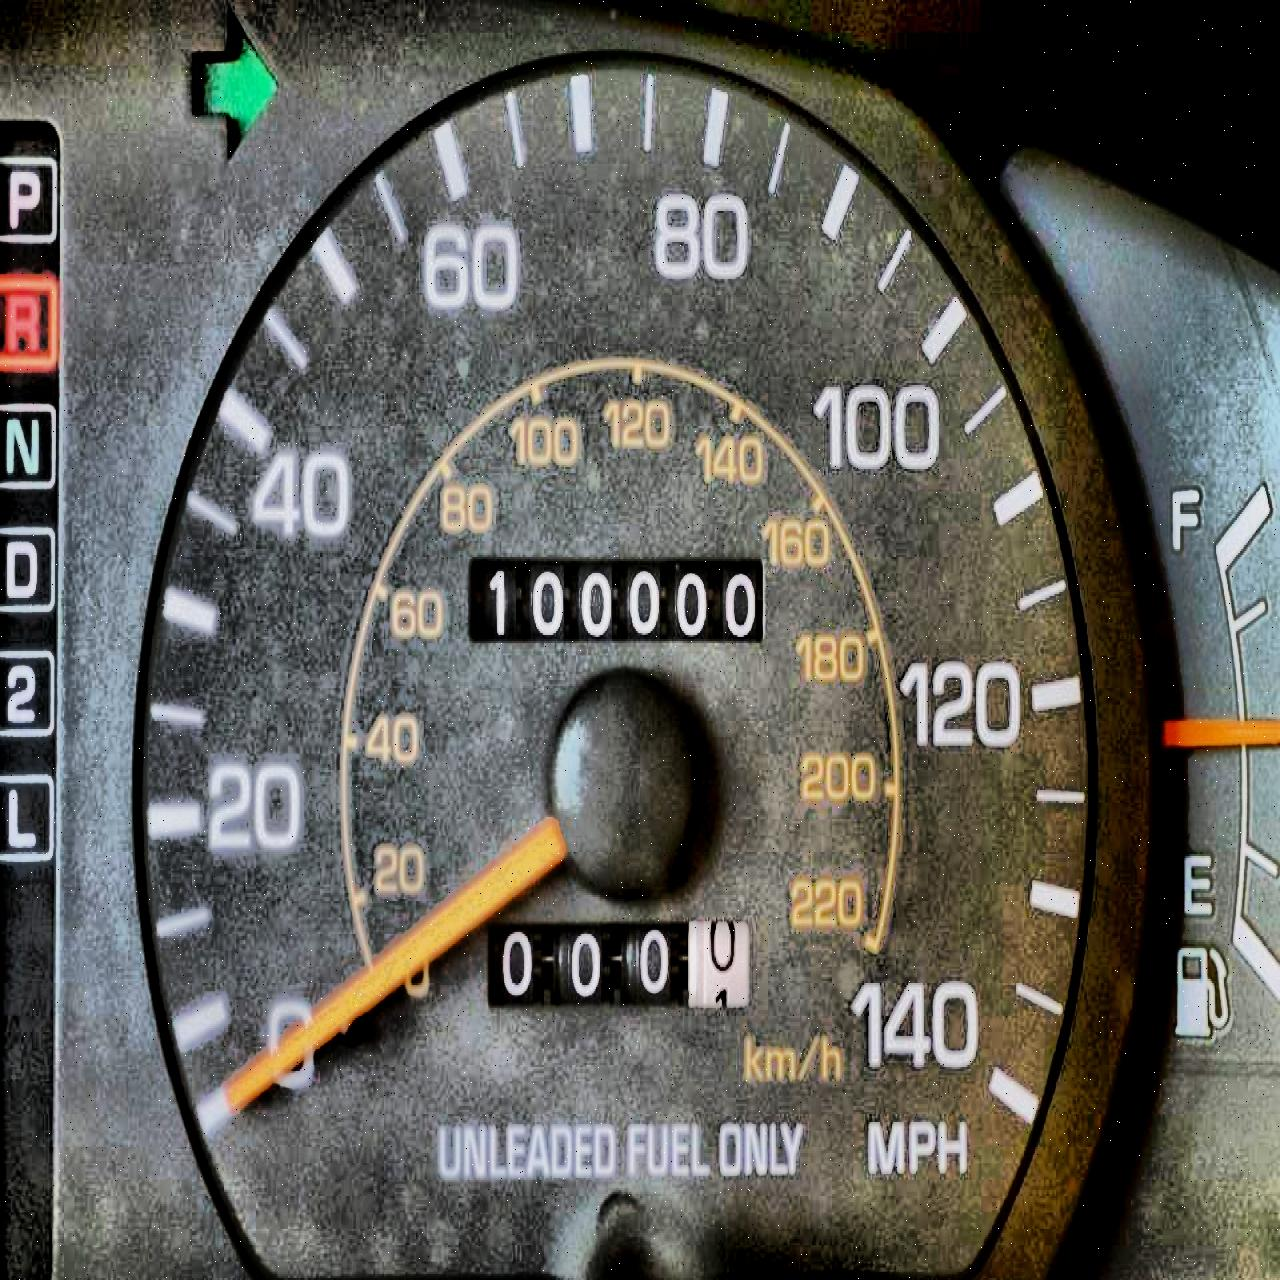0: (578, 565, 612, 639), (675, 563, 708, 639), (531, 563, 563, 636), (628, 565, 660, 636), (726, 573, 755, 636)
1: (485, 565, 516, 639)
odometer: (463, 547, 769, 649)
